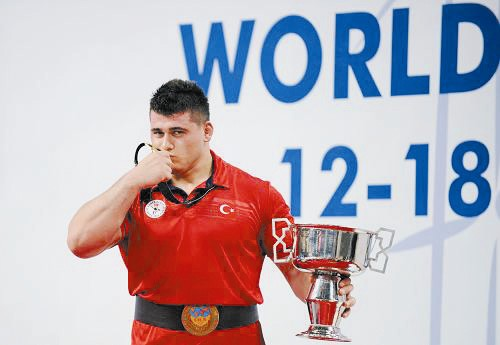face: (149, 107, 199, 169)
